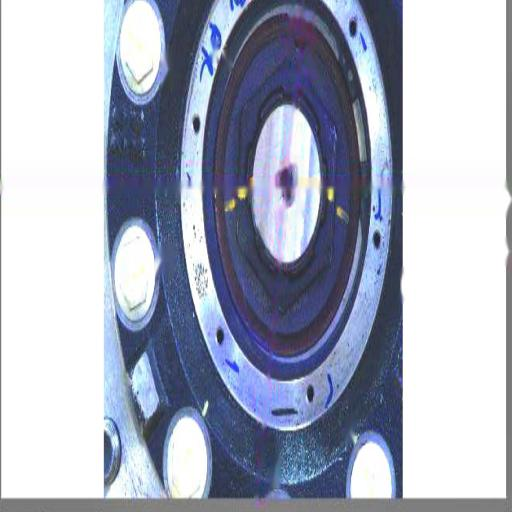center: (274, 165, 301, 219)
notch: (286, 34, 308, 61)
